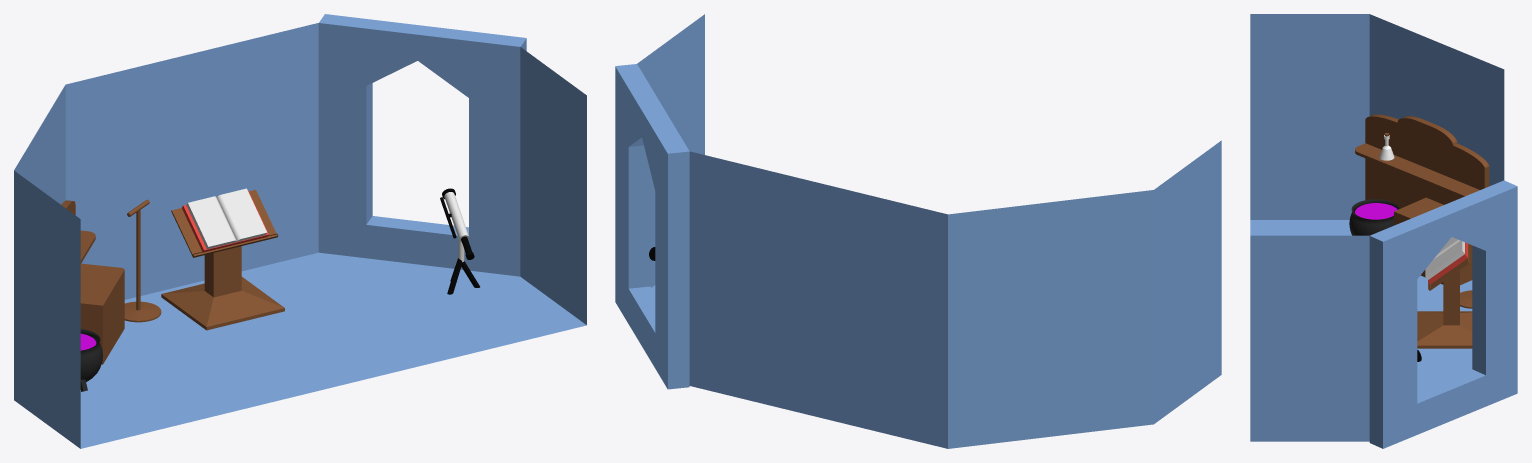
Rendered from room.glb.
3 views of the same model, side by side, from view 1: azimuth 30°, elevation 25°; view 2: azimuth 150°, elevation 25°; view 3: azimuth 270°, elevation 25° (orthographic). The views are drawn at different scales.
Visible parts, largest first — view 1: Layout, window, Book Stand, potion table, book, telescope, Bird stand, cauldron; view 2: Layout, window; view 3: Layout, window, potion table, Book Stand, book, cauldron, Circle.
Part boxes in pixels (x1=…): Layout: x1=14, y1=23, x2=586, y2=448; window: x1=318, y1=14, x2=526, y2=276; Book Stand: x1=161, y1=189, x2=284, y2=330; potion table: x1=61, y1=200, x2=124, y2=364; book: x1=182, y1=188, x2=268, y2=252; telescope: x1=440, y1=188, x2=479, y2=294; Bird stand: x1=124, y1=199, x2=161, y2=322; cauldron: x1=80, y1=329, x2=102, y2=391; Layout: x1=637, y1=14, x2=1221, y2=448; window: x1=615, y1=64, x2=689, y2=389; Layout: x1=1250, y1=14, x2=1504, y2=441; window: x1=1369, y1=180, x2=1517, y2=448; potion table: x1=1355, y1=114, x2=1489, y2=285; Book Stand: x1=1417, y1=243, x2=1472, y2=348; book: x1=1425, y1=237, x2=1467, y2=283; cauldron: x1=1349, y1=199, x2=1399, y2=235; Circle: x1=1355, y1=203, x2=1397, y2=219.
Bounding box in the file's own units: 20.39 × 9 × 10.13.
